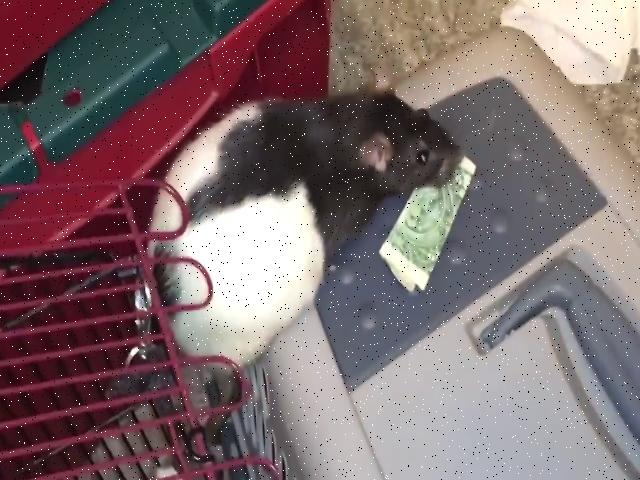Tikus: (146, 87, 462, 373)
